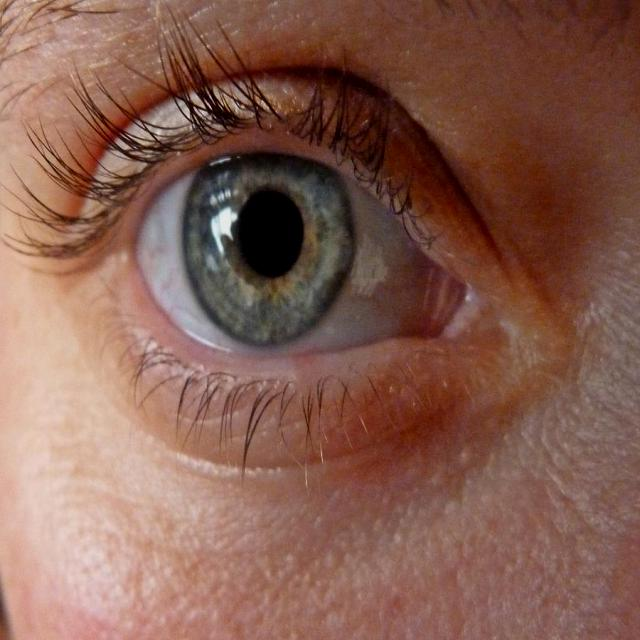Normal: (0, 43, 518, 483)
